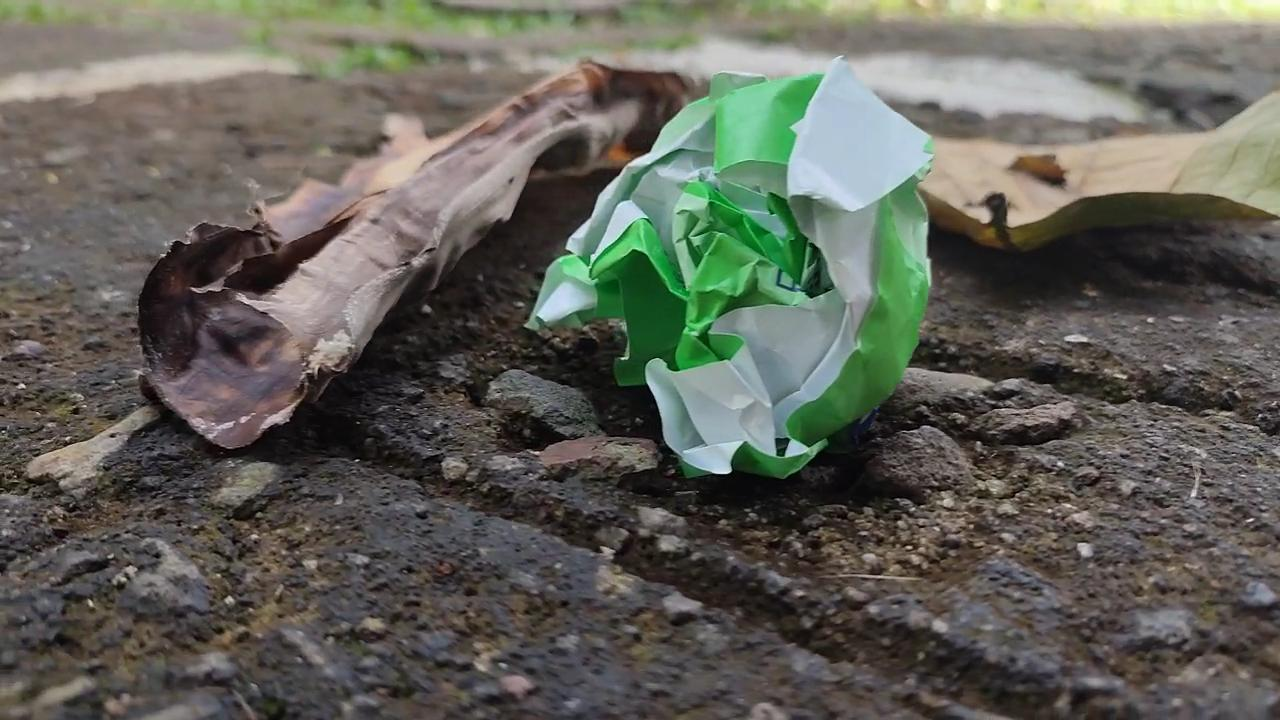Paper: (533, 53, 940, 493)
